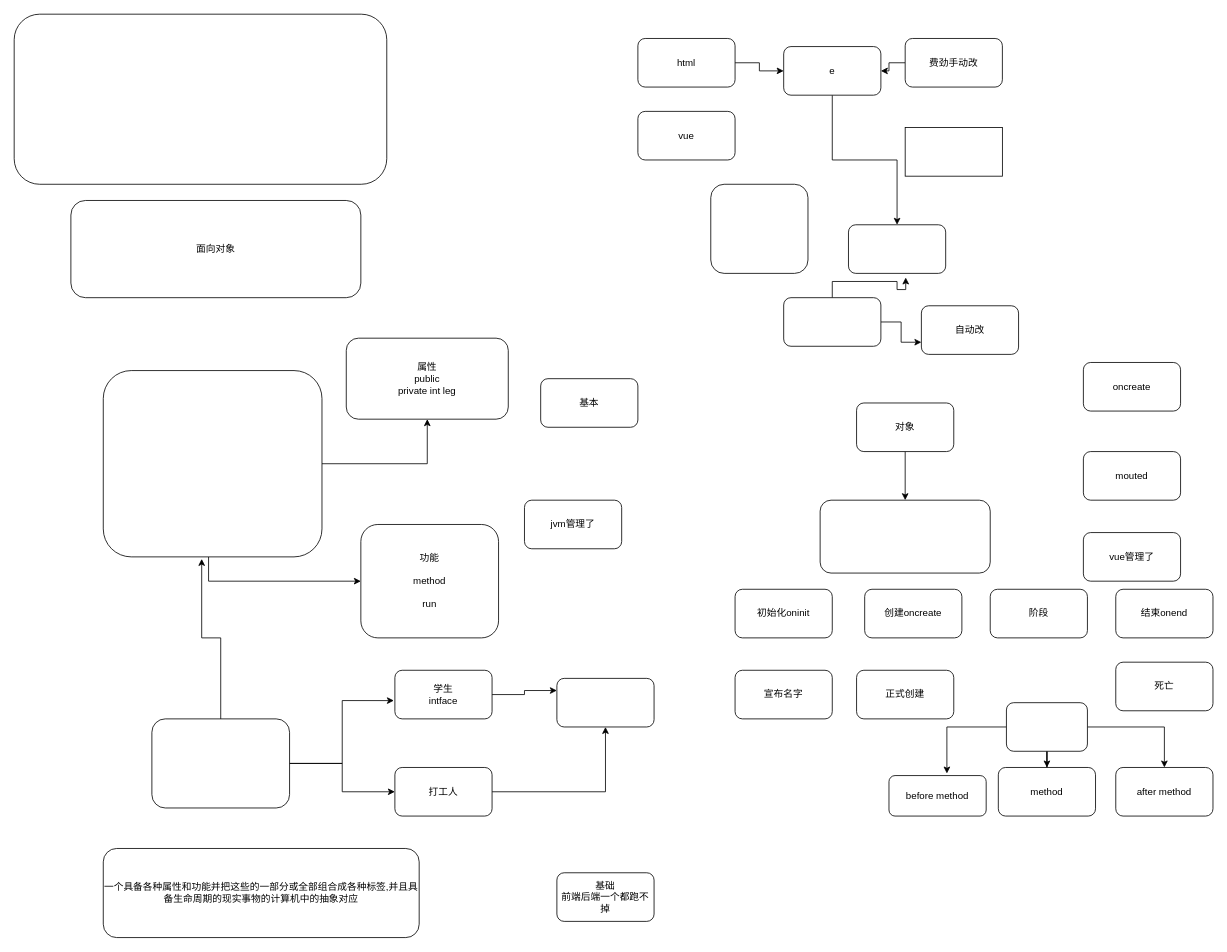
Image size: 1227x952. Some labels were removed from this diagram. Here are the shapes that lost their labels. From the top down, the centre of each, then its label:
point 200,98: 老师会为了挣钱 教你业务 比如用Java实现登陆注册 但永远或者说不愿意教你 基础 太多了 通用的思想 只会在需要用到的时候 片面的简单说一下
point 953,151: 双向绑定
point 759,228: let vue=(){ }
point 897,248: data
point 832,321: methods
point 212,463: 对象 现实中存在的事物 把这个事务抽象成了class
point 904,536: 生命周期 life cycle
point 605,702: 属性功能分类
point 1046,726: 状态
point 220,763: 儿子
